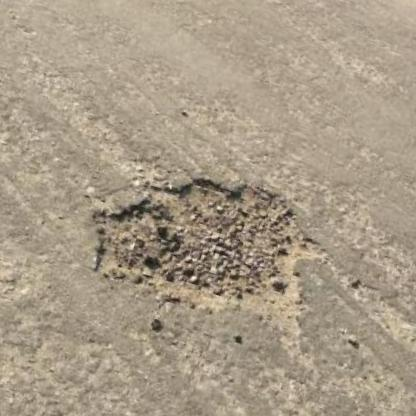pothole: (73, 141, 344, 341)
